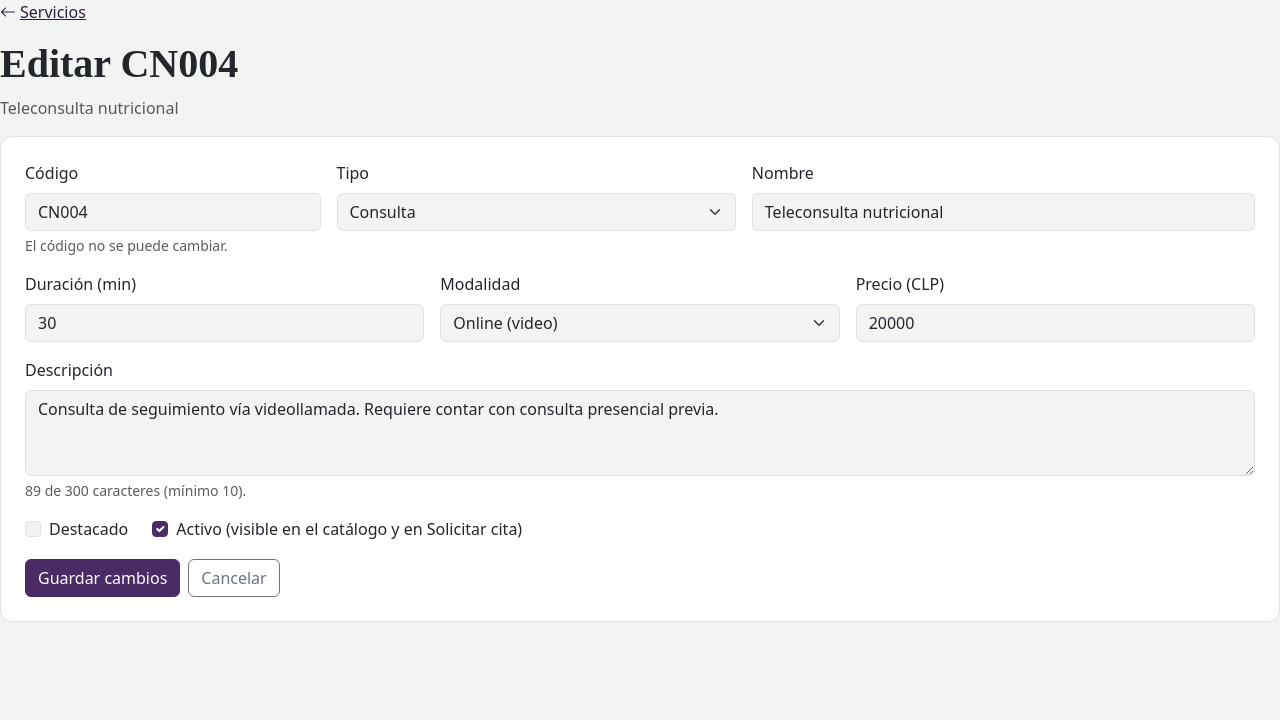
Test case: ServicioFormulario › al desmarcar Activo pide confirmación antes de guardar
Step 1. Click the checkbox labelled "Activo (visible en el catálogo y en Solicitar cita)" → (160,529), box [152, 521, 168, 537]
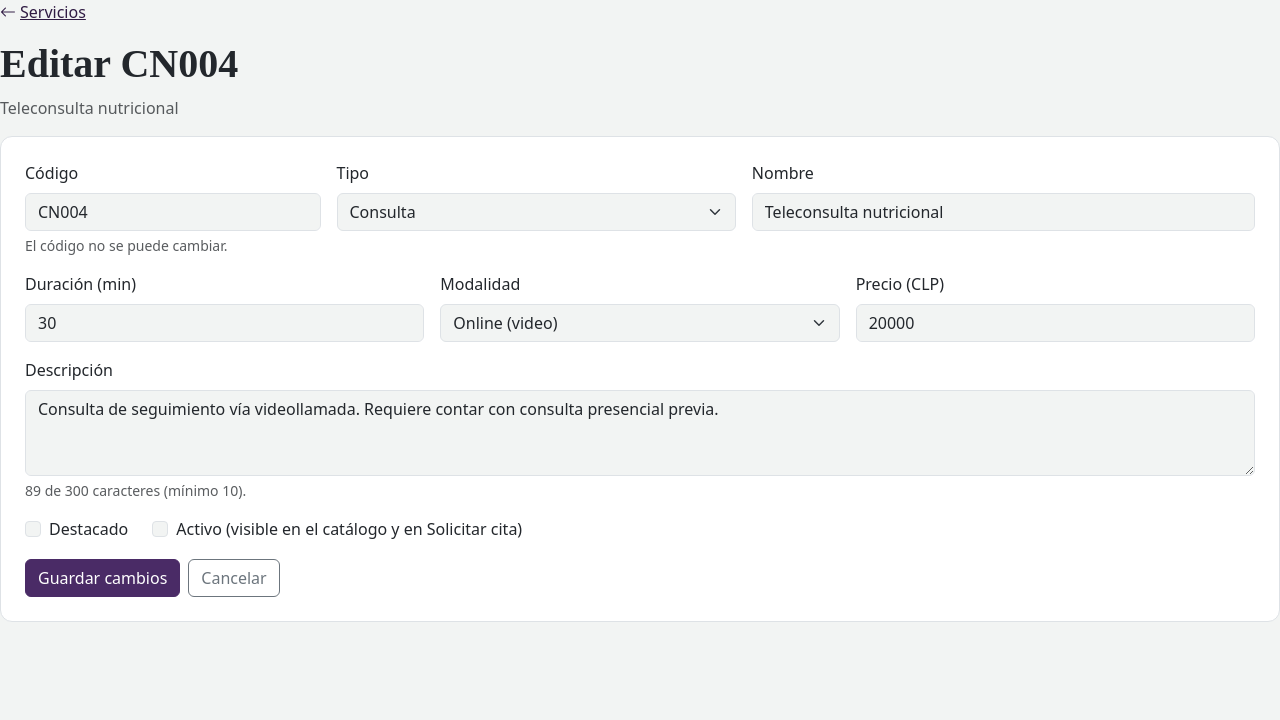
Step 2. Click the button "Guardar cambios" → (103,578), box [25, 559, 180, 597]
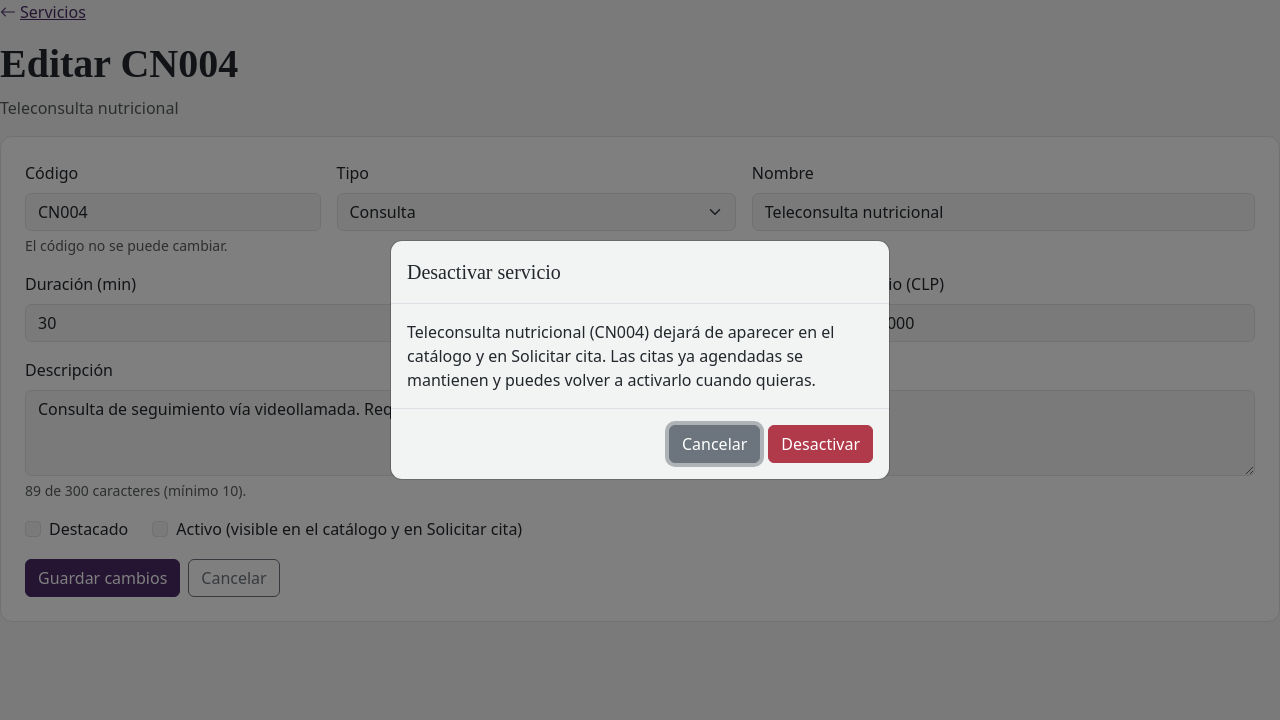
Check: the dialog shows "Desactivar servicio", box [407, 261, 561, 283]
Step 3. Click the button "Desactivar" → (821,444), box [768, 425, 873, 463]
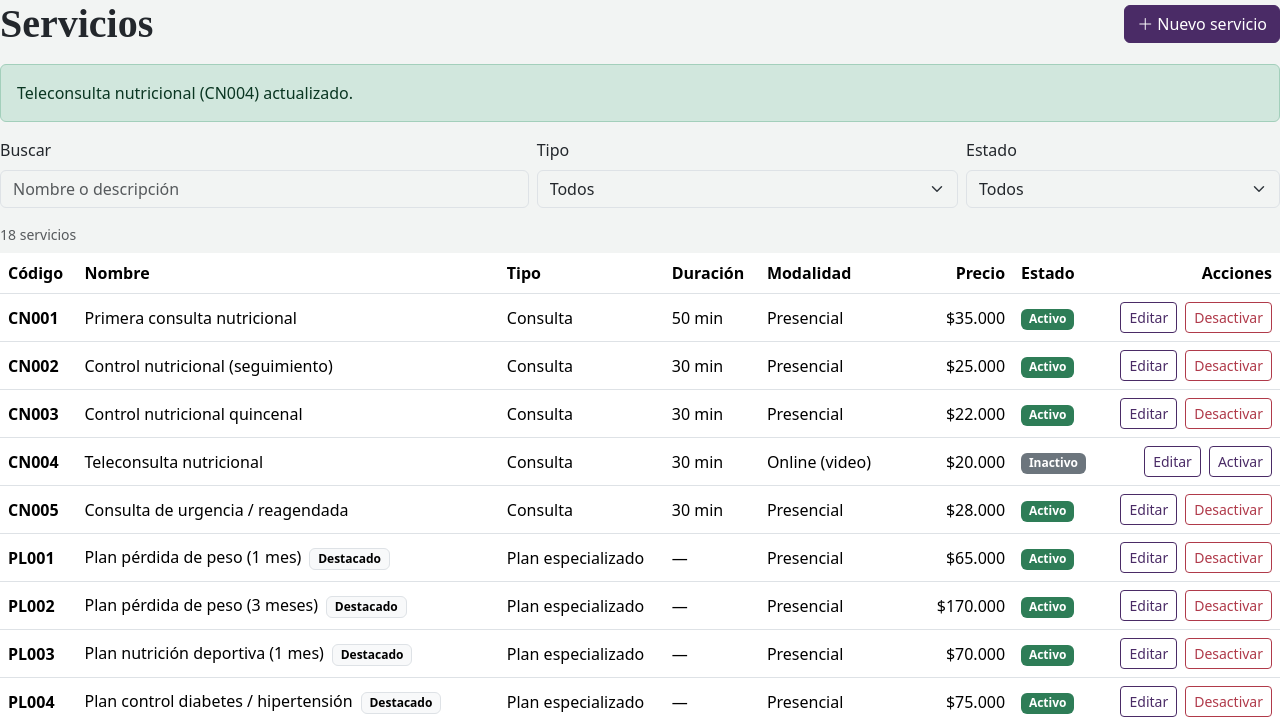
Check: the message reads "Teleconsulta nutricional (CN004) actualizado.", box [17, 82, 353, 104]
